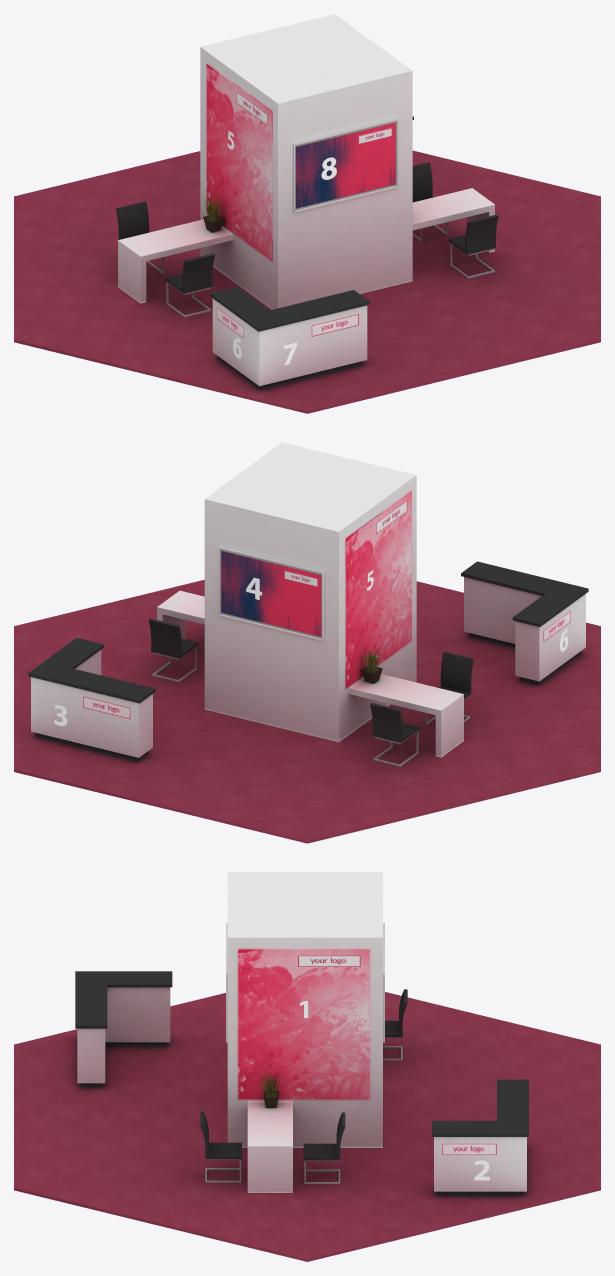
The model's file is stand_c_.gltf.
The picture shows the model from 3 angles, top to bottom: view 1: azimuth 30°, elevation 25°; view 2: azimuth 150°, elevation 25°; view 3: azimuth 270°, elevation 25°; orthographic projection.
Parts seen in each view (by area): view 1: Stand_C, Branding_Stand_C_Graphic; view 2: Stand_C, Branding_Stand_C_Graphic; view 3: Stand_C, Branding_Stand_C_Graphic.
Boxes of the visible parts, bbox=[...] form: Stand_C: bbox=[14, 14, 600, 413]; Branding_Stand_C_Graphic: bbox=[206, 64, 395, 386]; Stand_C: bbox=[14, 442, 600, 843]; Branding_Stand_C_Graphic: bbox=[31, 491, 585, 757]; Stand_C: bbox=[14, 872, 600, 1261]; Branding_Stand_C_Graphic: bbox=[238, 949, 526, 1191].
Bounding box in the file's own units: 10.48 × 3.63 × 9.07.
Materials: 2 (2 with a texture image).
